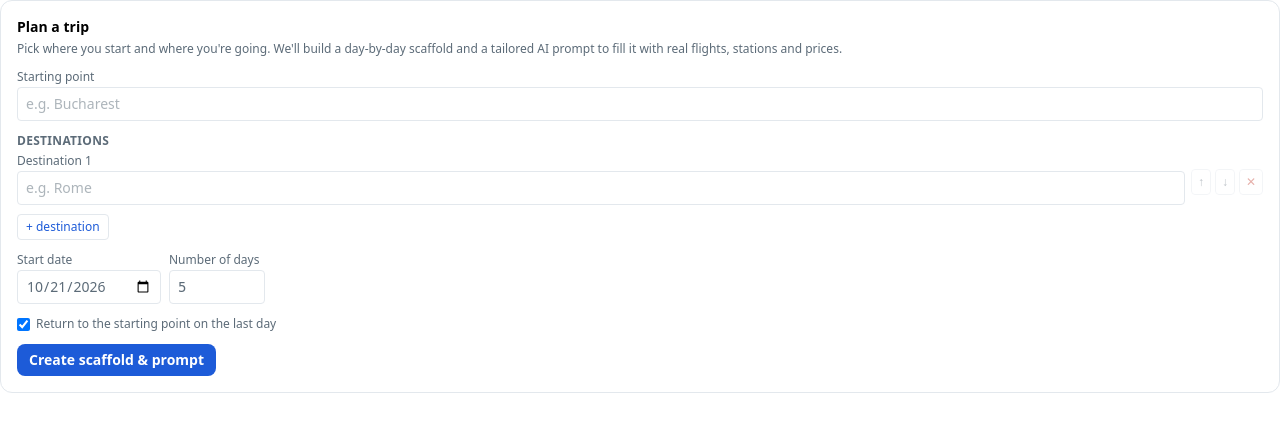
Test case: PlanTripForm › fills a place's lat/lon when a suggestion is selected
The image size is (1280, 428).
Type "Bucharest" into the dropdown labelled "Starting point".
click(640, 104); type("Bucharest")  # box top-left (17, 87), bottom-right (1263, 121)
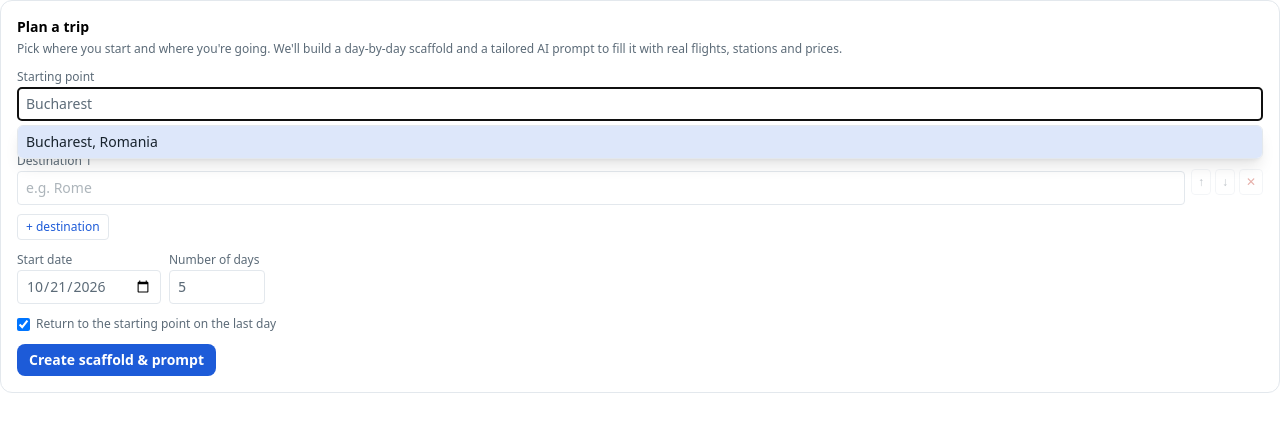
Click the button "Bucharest, Romania".
click(92, 142)  # box top-left (18, 126), bottom-right (1262, 158)
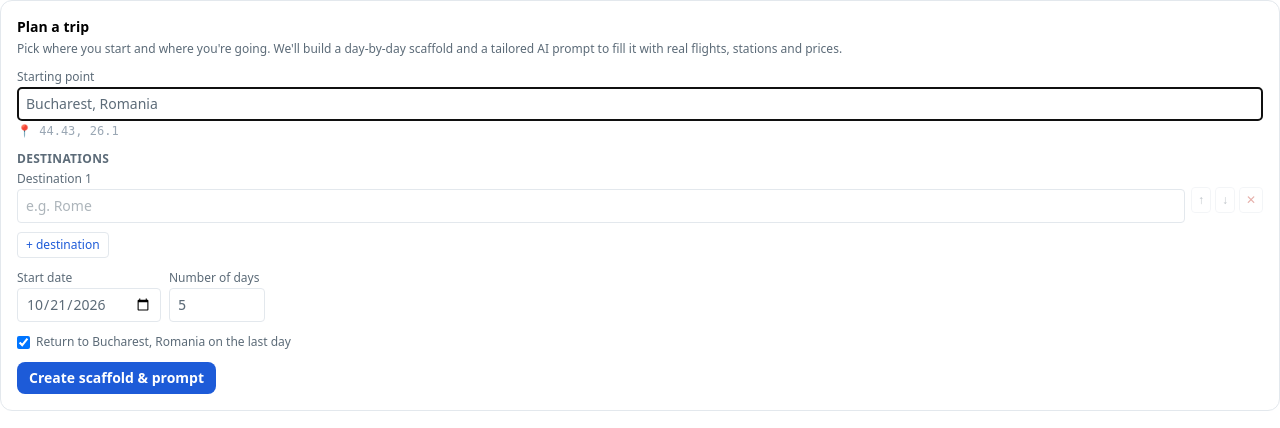
Result: the dropdown labelled "Starting point 📍 44.43, 26.1" holds "Bucharest, Romania" at top-left (17, 87), bottom-right (1263, 121)
Result: the text "📍 44.43, 26.1" is shown at top-left (17, 124), bottom-right (119, 138)
